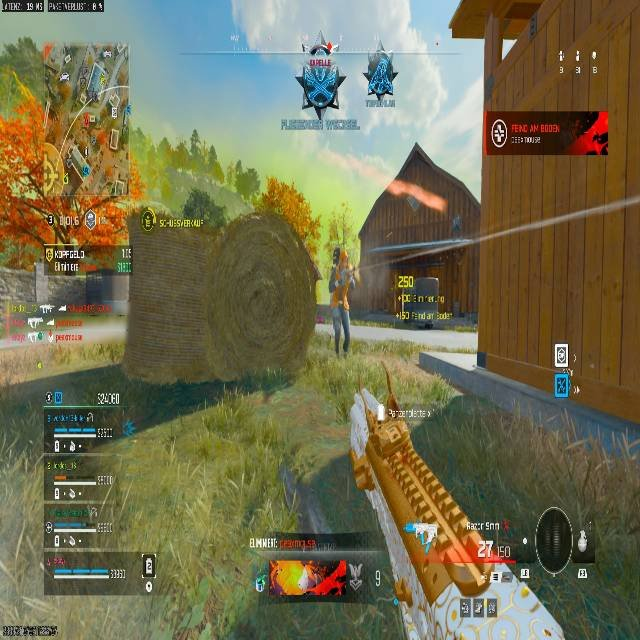head: (333, 248, 348, 266)
player: (293, 43, 348, 119), (326, 248, 357, 351), (364, 55, 398, 102)
